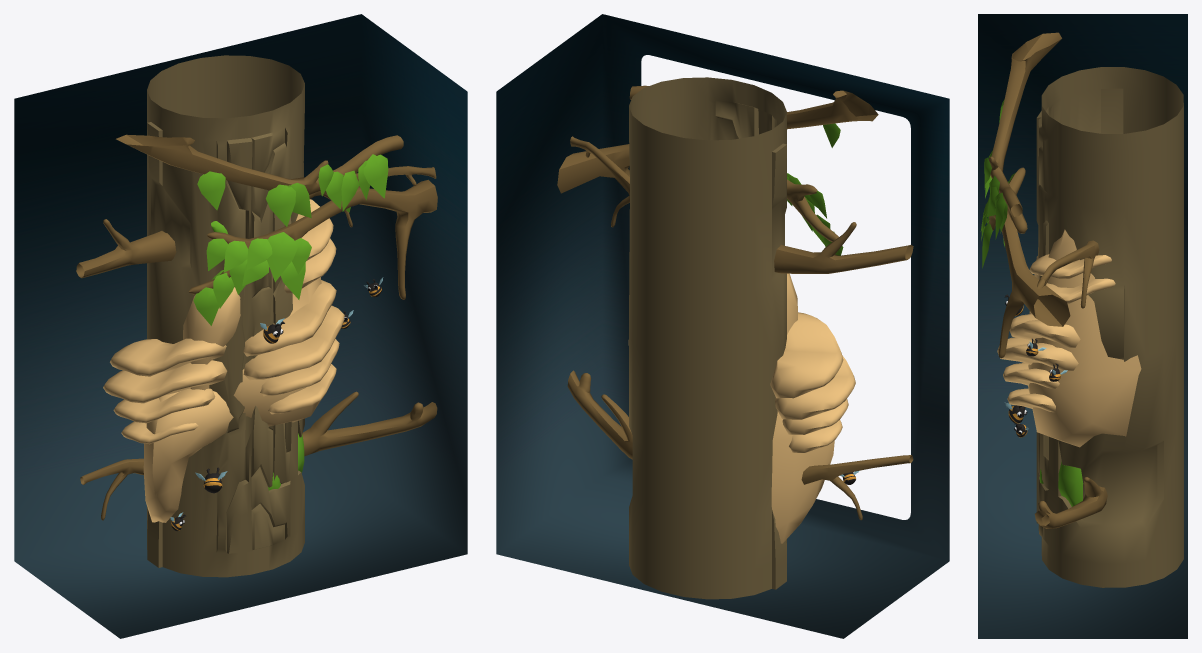
The model's file is 10_beehive.glb.
The picture shows the model from 3 angles, left to right: view 1: azimuth 30°, elevation 25°; view 2: azimuth 150°, elevation 25°; view 3: azimuth 270°, elevation 25°; orthographic projection.
Parts seen in each view (by area): view 1: 10_Beehive_bg, 10_Beehive; view 2: 10_Beehive_bg, 10_Beehive; view 3: 10_Beehive, 10_Beehive_bg.
Part boxes in pixels (<box>): 10_Beehive_bg: <box>14,14,467,638</box>; 10_Beehive: <box>76,55,437,577</box>; 10_Beehive_bg: <box>496,14,949,638</box>; 10_Beehive: <box>557,77,913,599</box>; 10_Beehive: <box>980,32,1183,587</box>; 10_Beehive_bg: <box>978,14,1187,638</box>.
Bounding box in the file's own units: 2.76 × 3.51 × 1.46.
2 materials, 2 textured.
